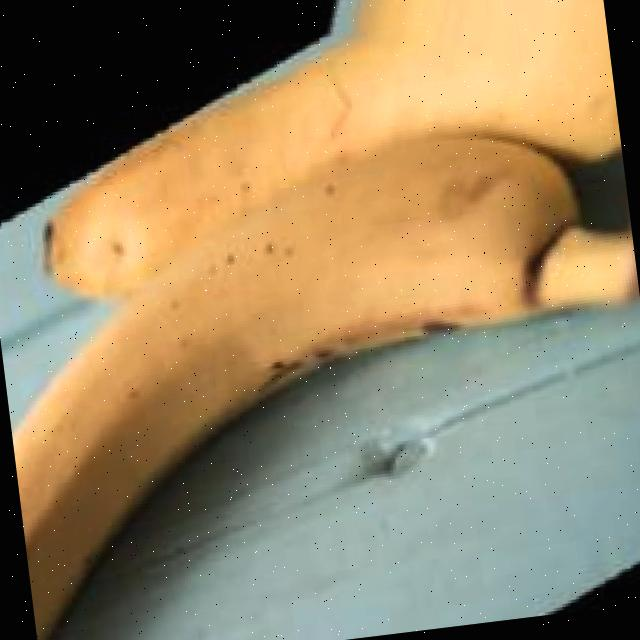banana: (0, 91, 637, 640)
